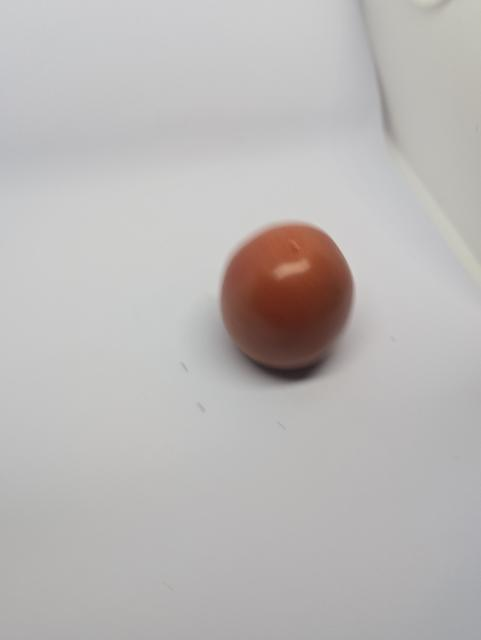red: (216, 221, 356, 373)
